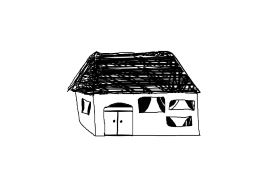door: (102, 100, 136, 142)
open_window: (137, 94, 167, 115), (165, 114, 194, 130), (168, 98, 197, 112), (80, 97, 93, 115)
shaded_roof: (64, 48, 206, 98)
small_house: (2, 0, 260, 182)
wall: (92, 89, 203, 139)
